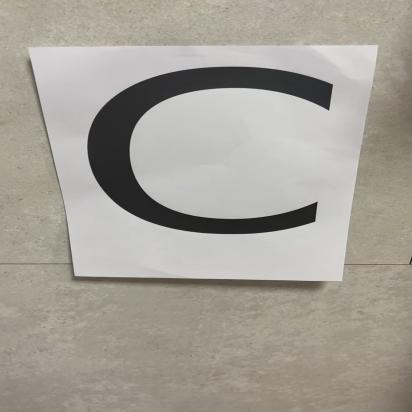seat: (43, 51, 364, 273)
